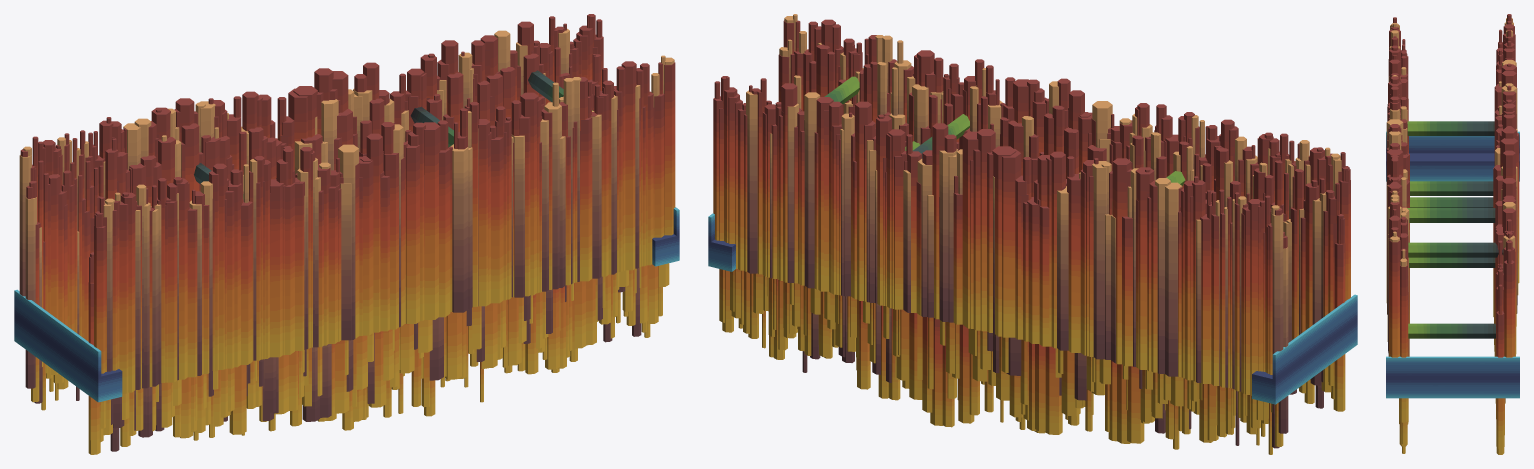
Rendered from world.gltf.
3 views of the same model, side by side, from view 1: azimuth 30°, elevation 25°; view 2: azimuth 150°, elevation 25°; view 3: azimuth 270°, elevation 25° (orthographic). The views are drawn at different scales.
Visible parts, largest first — view 1: Cylinder.129, spawn, Cylinder.140, spawn_wall, Cylinder.122, Cylinder.205, Cylinder.070, Cylinder.188, Cylinder.133, Cylinder.221, Cylinder.104, Cylinder.154 (+97 smaller); view 2: spawn, Cylinder.327, Cylinder.263, Cylinder.291, spawn_wall, Cylinder.301, Cylinder.404, Cylinder.274, Cylinder.427, Cylinder.305, Cylinder.341, Cylinder.283 (+99 smaller); view 3: end_wall, end, spawn, spawn_wall, Cylinder.890, Cylinder.889, Cylinder.891, Cylinder.885, Cylinder.221, Cylinder.886, Cylinder.440, Cylinder.888 (+34 smaller).
Boxes of the visible parts, bbox=[...] form: Cylinder.129: bbox=[423, 122, 440, 319]; spawn: bbox=[14, 316, 122, 402]; Cylinder.140: bbox=[450, 144, 468, 312]; spawn_wall: bbox=[14, 289, 101, 376]; Cylinder.122: bbox=[406, 141, 419, 323]; Cylinder.205: bbox=[621, 61, 636, 270]; Cylinder.070: bbox=[270, 179, 283, 357]; Cylinder.188: bbox=[580, 117, 592, 281]; Cylinder.133: bbox=[439, 148, 450, 317]; Cylinder.221: bbox=[664, 62, 675, 235]; Cylinder.104: bbox=[359, 156, 373, 335]; Cylinder.154: bbox=[491, 137, 503, 303]; spawn: bbox=[1252, 320, 1357, 404]; Cylinder.327: bbox=[1002, 149, 1021, 337]; Cylinder.263: bbox=[1165, 182, 1182, 376]; Cylinder.291: bbox=[1092, 161, 1107, 359]; spawn_wall: bbox=[1272, 294, 1357, 379]; Cylinder.301: bbox=[1067, 174, 1080, 352]; Cylinder.404: bbox=[804, 92, 820, 288]; Cylinder.274: bbox=[1135, 167, 1154, 369]; Cylinder.427: bbox=[746, 90, 757, 273]; Cylinder.305: bbox=[1057, 186, 1068, 350]; Cylinder.341: bbox=[962, 131, 978, 328]; Cylinder.283: bbox=[1112, 158, 1131, 364]; end_wall: bbox=[1386, 356, 1519, 377]; end: bbox=[1386, 378, 1519, 398]; spawn: bbox=[1386, 153, 1519, 181]; spawn_wall: bbox=[1386, 131, 1519, 153]; Cylinder.890: bbox=[1408, 242, 1503, 257]; Cylinder.889: bbox=[1408, 323, 1495, 338]; Cylinder.891: bbox=[1407, 121, 1494, 135]; Cylinder.885: bbox=[1407, 208, 1495, 222]; Cylinder.221: bbox=[1389, 240, 1400, 357]; Cylinder.886: bbox=[1410, 181, 1493, 195]; Cylinder.440: bbox=[1503, 260, 1514, 357]; Cylinder.888: bbox=[1409, 257, 1495, 267].
Size of what is drawn, in the model's own units: 384 by 203 by 96.
1 material, 1 textured.
